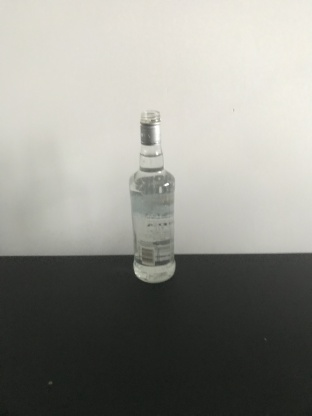nakretka: (138, 109, 162, 145)
